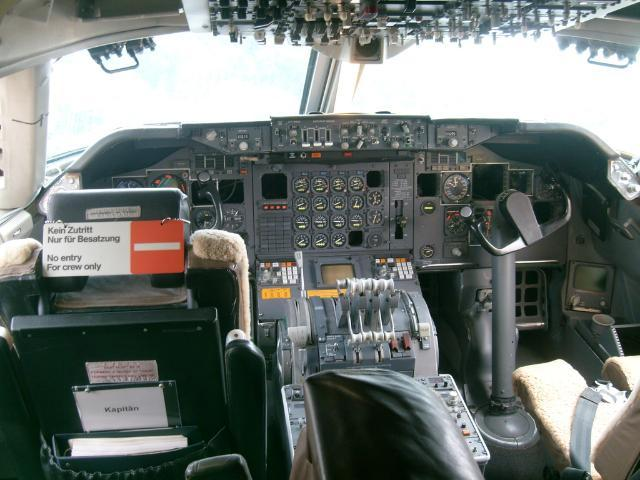Seatbelt: (568, 385, 602, 479)
